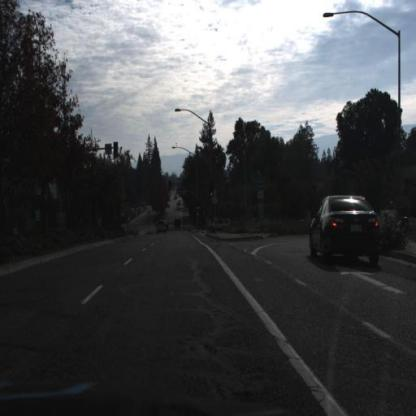car: (306, 189, 387, 271), (208, 216, 232, 232), (155, 219, 169, 236), (173, 215, 183, 233)
trafficLight-Green: (209, 179, 217, 199), (168, 179, 174, 193)
